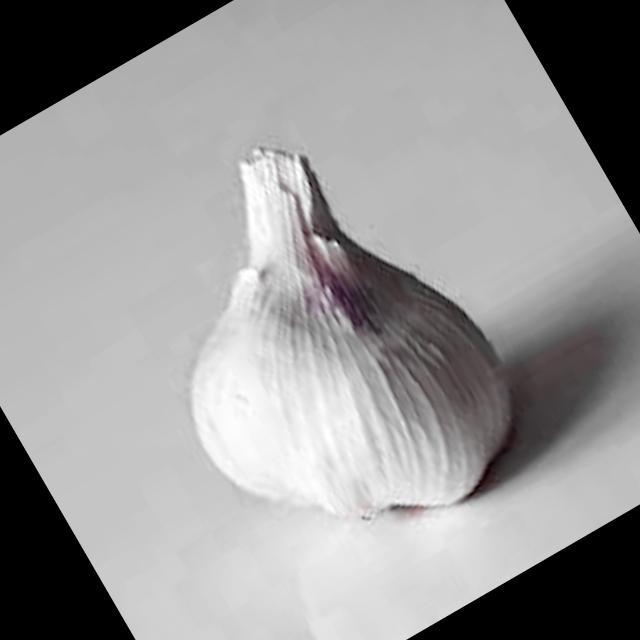garlic: (191, 149, 511, 517)
